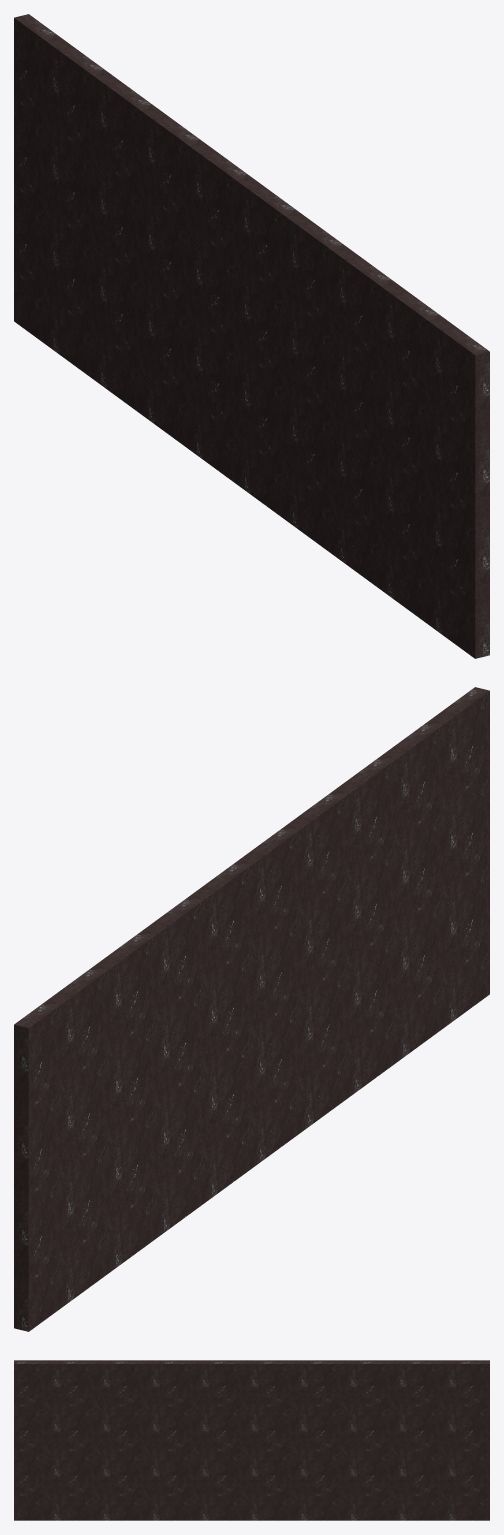
Rendered from souplongwall023.glb.
3 views of the same model, one above another, from view 1: azimuth 30°, elevation 25°; view 2: azimuth 150°, elevation 25°; view 3: azimuth 270°, elevation 25° (orthographic). The views are drawn at different scales.
Visible parts, largest first — view 1: souplongwall023_high_1; view 2: souplongwall023_high_1; view 3: souplongwall023_high_1.
Boxes of the visible parts, bbox=[...] form: souplongwall023_high_1: bbox=[14, 14, 489, 658]; souplongwall023_high_1: bbox=[14, 687, 489, 1331]; souplongwall023_high_1: bbox=[14, 1360, 489, 1520].
Size of the model in its own units: 0.1504 by 2.95 by 8.11.
Materials: 1 (1 with a texture image).
